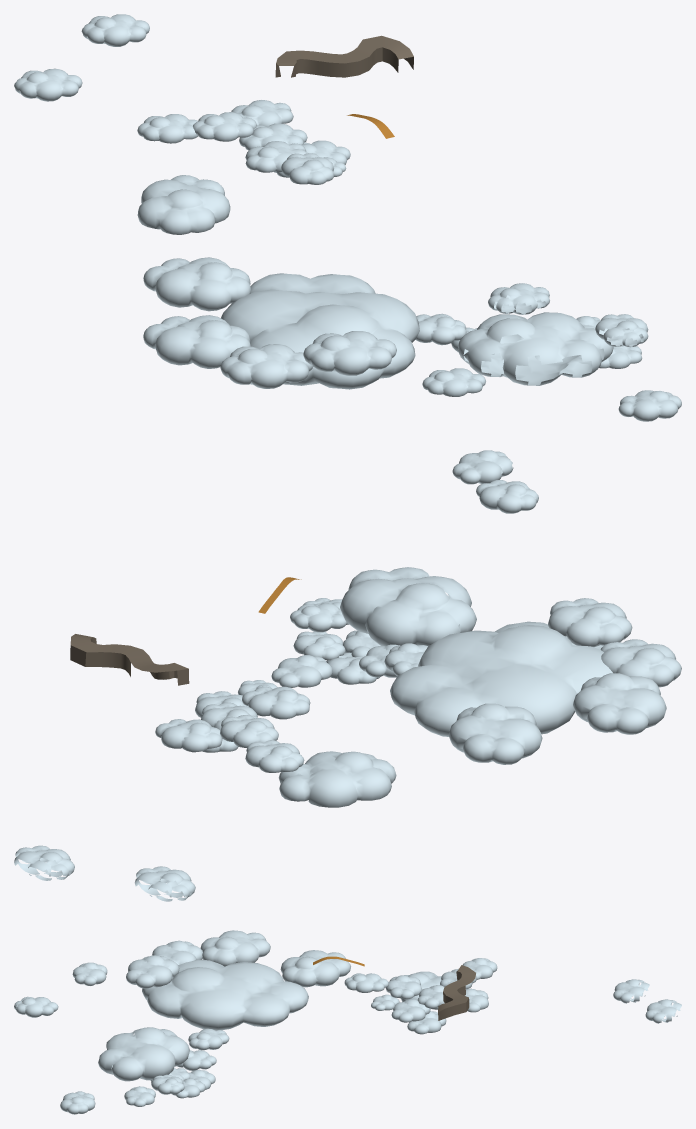
File: clouds.glb
3 views of the same model, one above another, from view 1: azimuth 30°, elevation 25°; view 2: azimuth 150°, elevation 25°; view 3: azimuth 270°, elevation 25° (orthographic). The views are drawn at different scales.
Parts seen in each view (by area): view 1: Croquette_merge_UV10__M_Cnsw_34_Cloud; view 2: Croquette_merge_UV10__M_Cnsw_34_Cloud; view 3: Croquette_merge_UV10__M_Cnsw_34_Cloud.
Boxes of the visible parts, x1=… form: Croquette_merge_UV10__M_Cnsw_34_Cloud: x1=14, y1=14, x2=681, y2=421; Croquette_merge_UV10__M_Cnsw_34_Cloud: x1=14, y1=450, x2=681, y2=901; Croquette_merge_UV10__M_Cnsw_34_Cloud: x1=14, y1=930, x2=681, y2=1114.
Bounding box in the file's own units: 111 × 45.99 × 228.
1 material, 1 textured.
